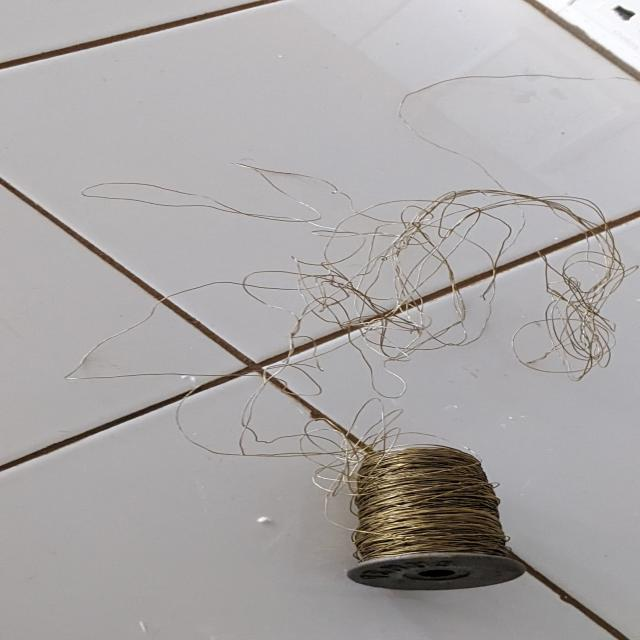Wire Coil: (309, 439, 550, 598)
